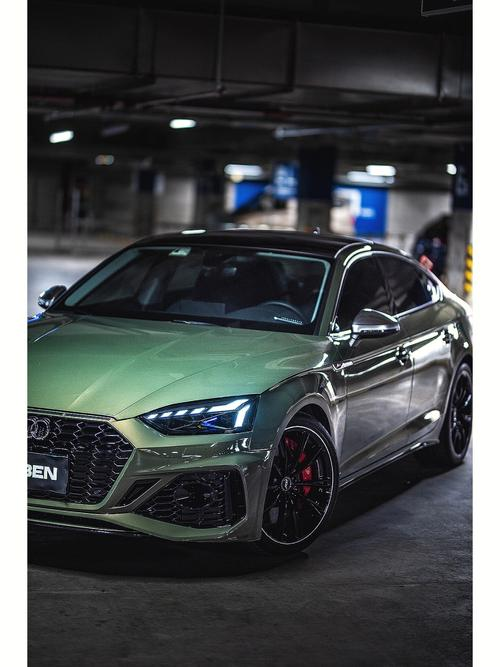汽车: (22, 219, 476, 559)
